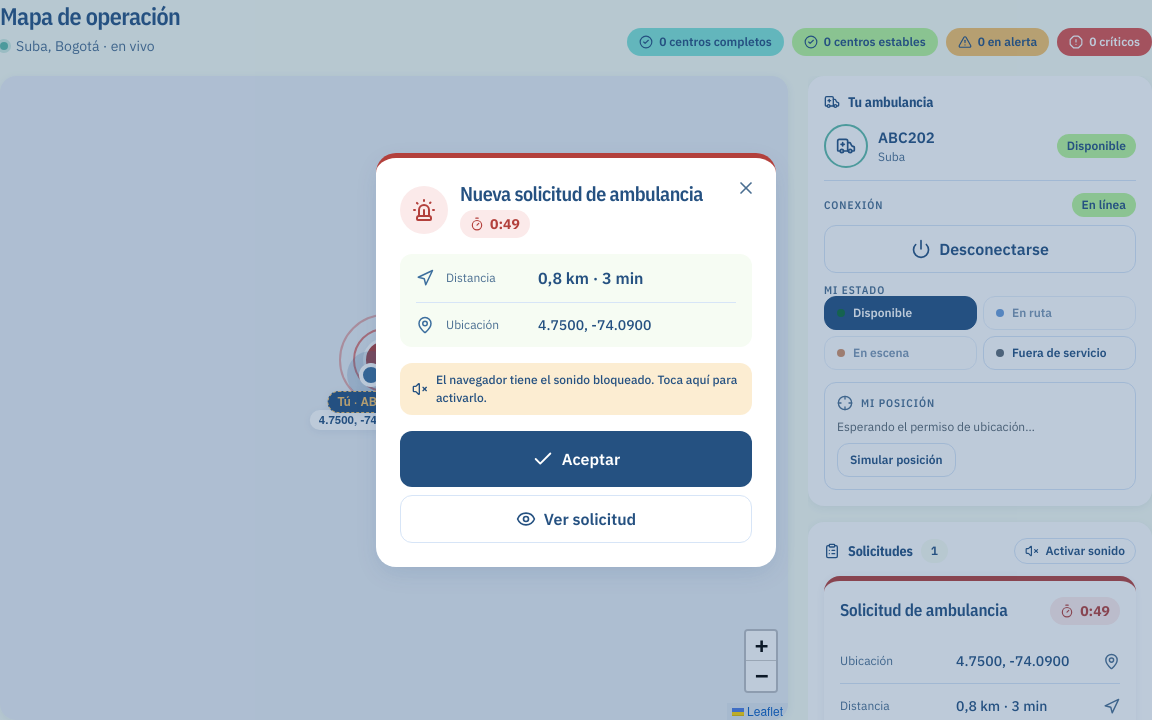
DriverConsolePage connection off demo mode › "Desconectarse" is a REST command; the offer leaves the screen
Click the button "Desconectarse": point(980, 249) [824, 225, 1136, 273]
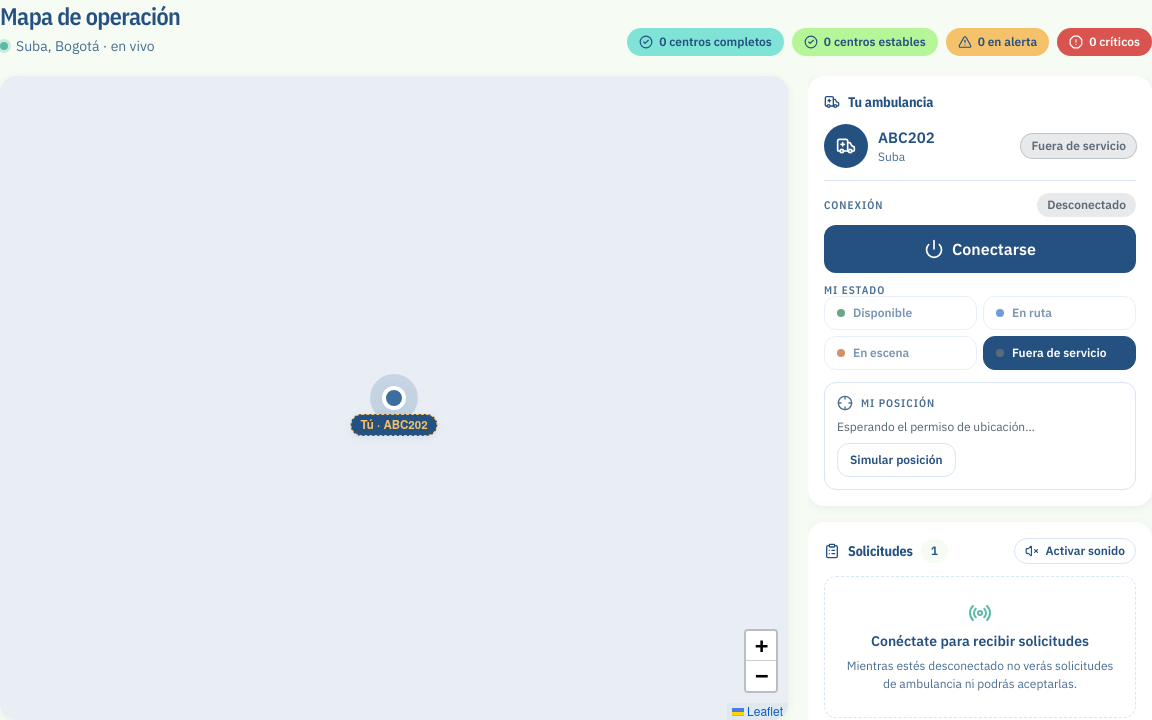
Check: the text "Desconectado" is shown, box [1037, 193, 1136, 217]
Check: the heading "Solicitud de ambulancia" is gone
Check: the element with test id "solicitudes-offline" is shown, box [824, 576, 1136, 718]
